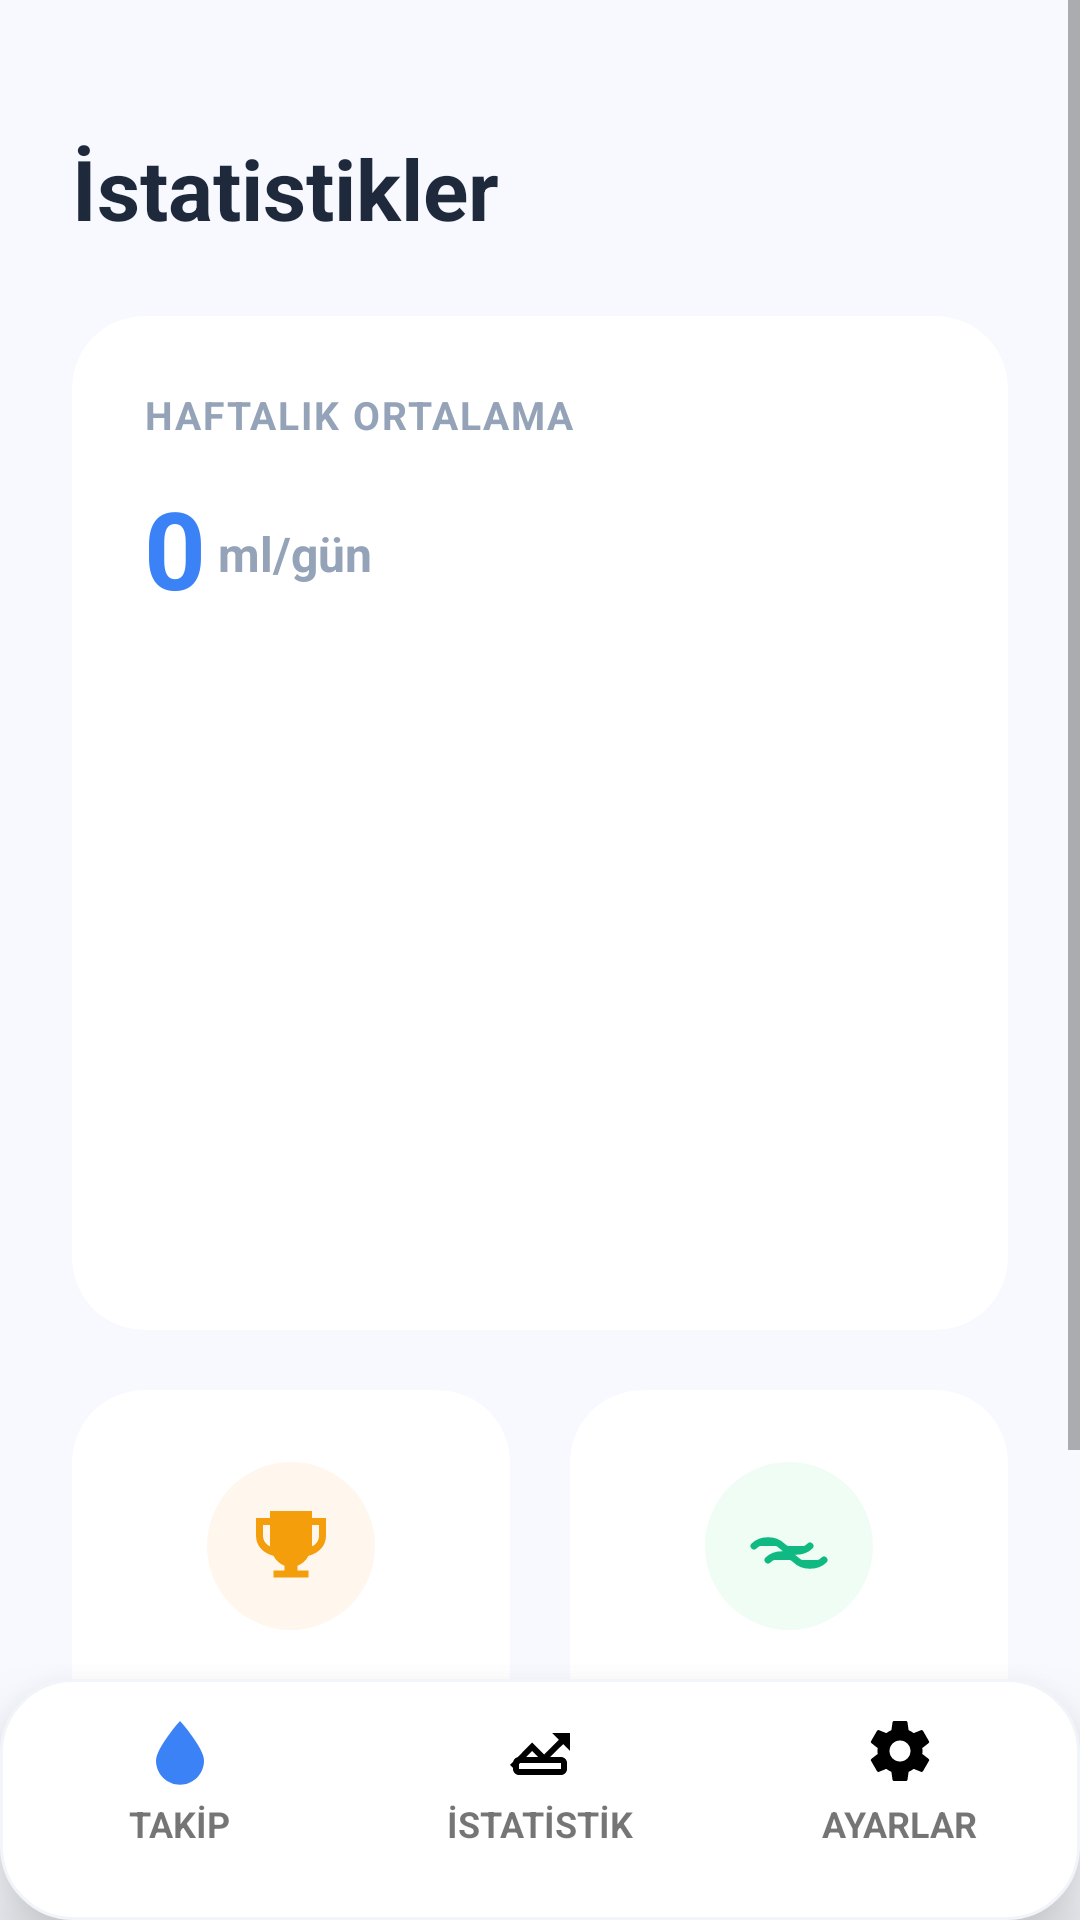

Point at icon controls on the screen. Image size 1080w x 1920h, points as (x=x, y=y).
trophy: (x=291, y=1544)
wave: (x=789, y=1546)
